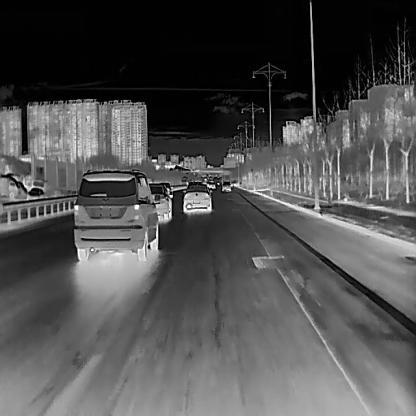car: (72, 168, 158, 261), (182, 181, 212, 213), (148, 182, 172, 222), (26, 186, 45, 198), (220, 180, 231, 192)
